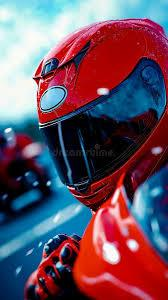Helmet: (34, 19, 167, 208)
